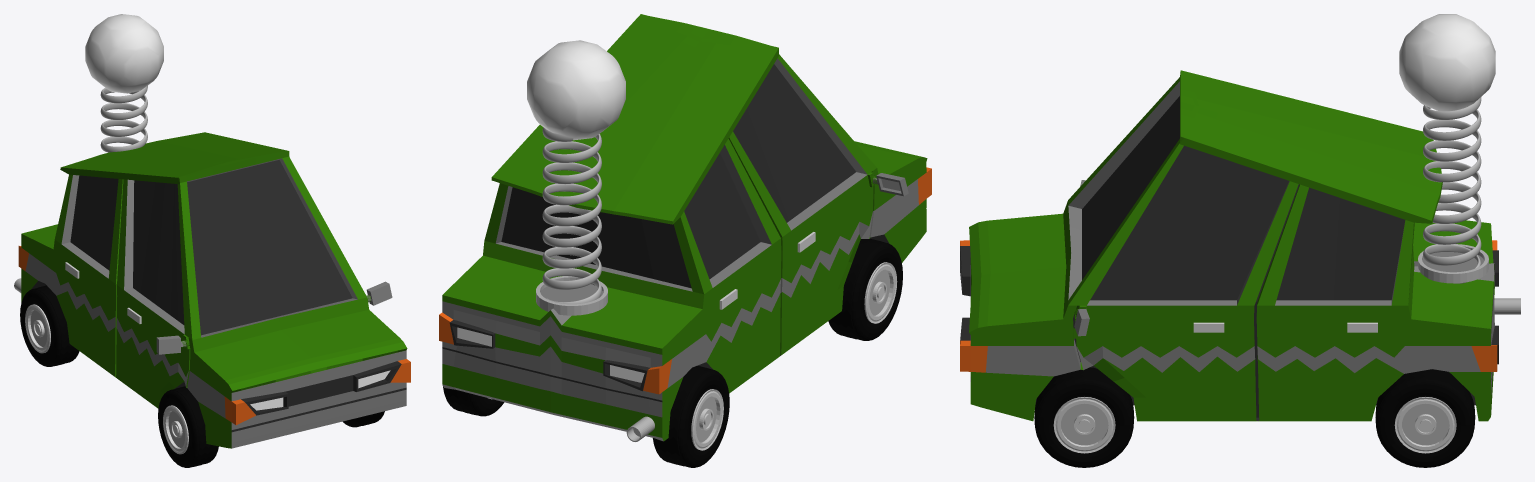
Rendered from CR-CAR-15A.fbx.
The picture shows the model from 3 angles, left to right: view 1: azimuth 30°, elevation 25°; view 2: azimuth 150°, elevation 25°; view 3: azimuth 270°, elevation 25°; orthographic projection. The views are drawn at different scales.
Parts seen in each view (by area): view 1: BODY, Mball, WHEEL.001, WHEEL.004, Circle; view 2: BODY, Circle, Mball, WHEEL.004, WHEEL.001, WHEEL.002; view 3: BODY, Circle, WHEEL.003, WHEEL.002, Mball.
Boxes of the visible parts, left/top/right/bottom form: BODY: left=18, top=132, right=410, bottom=448; Mball: left=85, top=14, right=163, bottom=93; WHEEL.001: left=158, top=386, right=218, bottom=467; WHEEL.004: left=20, top=285, right=79, bottom=366; Circle: left=100, top=85, right=147, bottom=152; BODY: left=439, top=14, right=931, bottom=441; Circle: left=536, top=127, right=607, bottom=315; Mball: left=527, top=40, right=625, bottom=140; WHEEL.004: left=652, top=366, right=729, bottom=467; WHEEL.001: left=828, top=239, right=902, bottom=340; WHEEL.002: left=443, top=386, right=504, bottom=416; BODY: left=960, top=70, right=1498, bottom=421; Circle: left=1418, top=97, right=1488, bottom=283; WHEEL.003: left=1034, top=367, right=1134, bottom=467; WHEEL.002: left=1375, top=369, right=1475, bottom=467; Mball: left=1399, top=14, right=1495, bottom=111.
Bounding box in the file's own units: 131 × 170 × 220.
